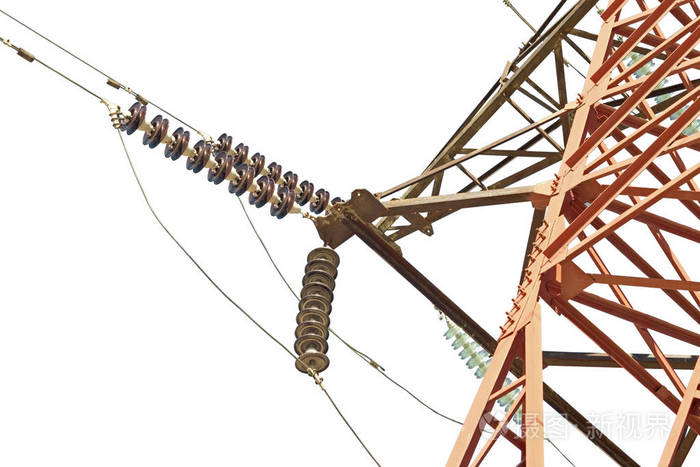insulator: (123, 104, 294, 219), (220, 133, 331, 214), (447, 322, 524, 420), (295, 250, 339, 371)
